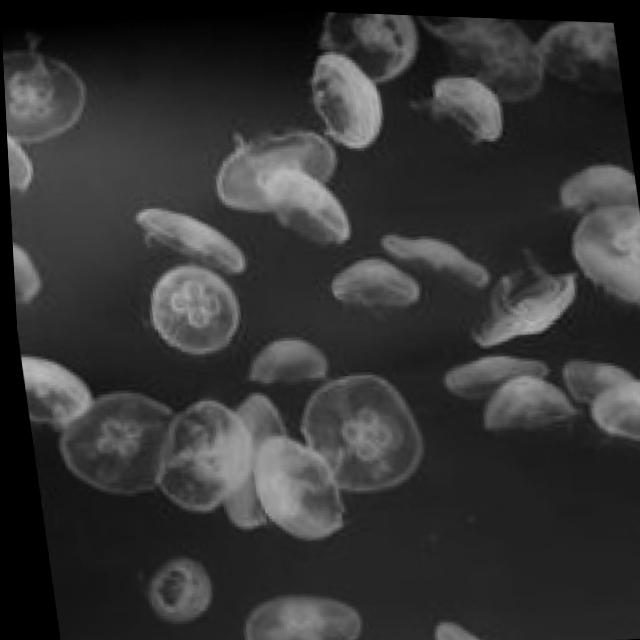Moon-jellyfish: (268, 345, 441, 515), (193, 118, 368, 282), (38, 376, 195, 525), (120, 376, 268, 533), (104, 179, 270, 295), (117, 249, 274, 366), (288, 23, 416, 148), (459, 230, 591, 345), (401, 51, 529, 161), (1, 19, 103, 155), (306, 235, 430, 333), (456, 361, 570, 454), (123, 542, 222, 633)
